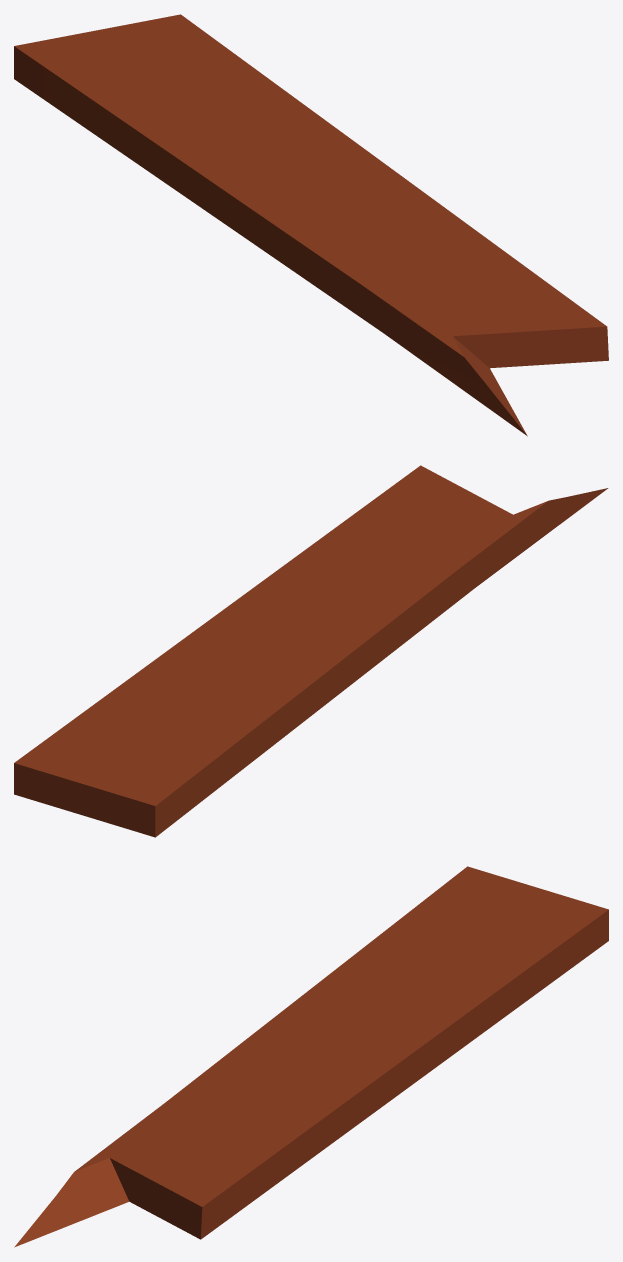
The model's file is BrokenBoard3.fbx.
The picture shows the model from 3 angles, top to bottom: view 1: azimuth 30°, elevation 25°; view 2: azimuth 150°, elevation 25°; view 3: azimuth 330°, elevation 25°; orthographic projection. The views are drawn at different scales.
Visible parts, largest first — view 1: BrokenBoard.003; view 2: BrokenBoard.003; view 3: BrokenBoard.003.
Part boxes in pixels (x1=…): BrokenBoard.003: x1=14, y1=14, x2=608, y2=436; BrokenBoard.003: x1=14, y1=465, x2=608, y2=837; BrokenBoard.003: x1=14, y1=866, x2=608, y2=1247.
Bounding box in the file's own units: 193 × 38.61 × 1050.
